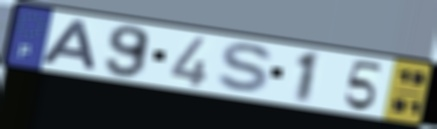1: (293, 49, 327, 107)
4: (167, 35, 210, 88)
5: (342, 58, 385, 111)
9: (100, 24, 152, 80)
A: (36, 18, 100, 73)
S: (213, 41, 278, 96)
